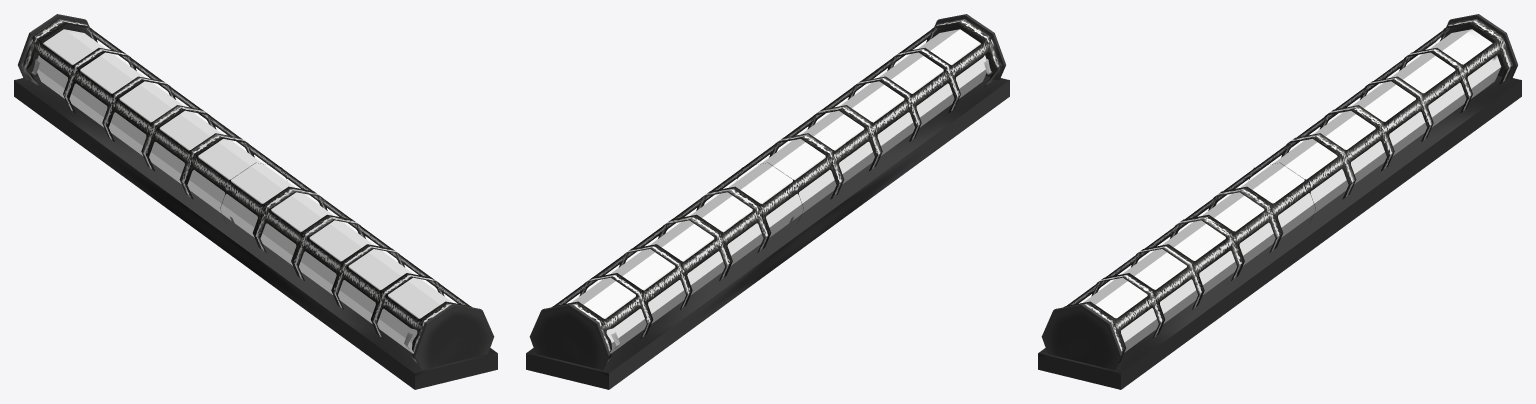
Rendered from GridCeilingLight 1.fbx.
The picture shows the model from 3 angles, left to right: view 1: azimuth 30°, elevation 25°; view 2: azimuth 150°, elevation 25°; view 3: azimuth 330°, elevation 25°; orthographic projection.
Parts seen in each view (by area): view 1: Cube.003; view 2: Cube.003; view 3: Cube.003.
Boxes of the visible parts, bbox=[...] form: Cube.003: bbox=[14, 14, 497, 389]; Cube.003: bbox=[526, 14, 1009, 389]; Cube.003: bbox=[1038, 14, 1521, 389].
Size of the model in its own units: 17.81 by 15.1 by 149.
Materials: 1 (1 with a texture image).
